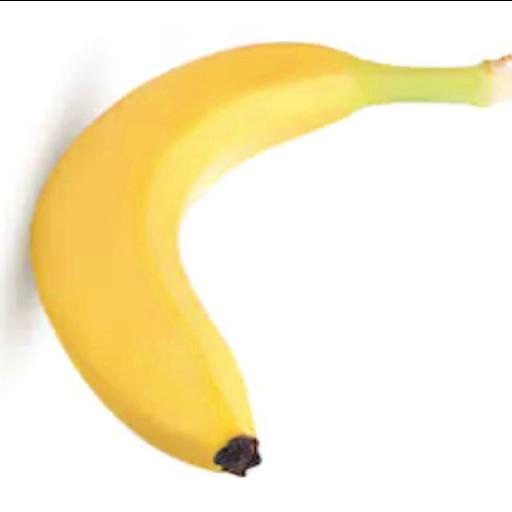banana: (31, 43, 511, 474)
